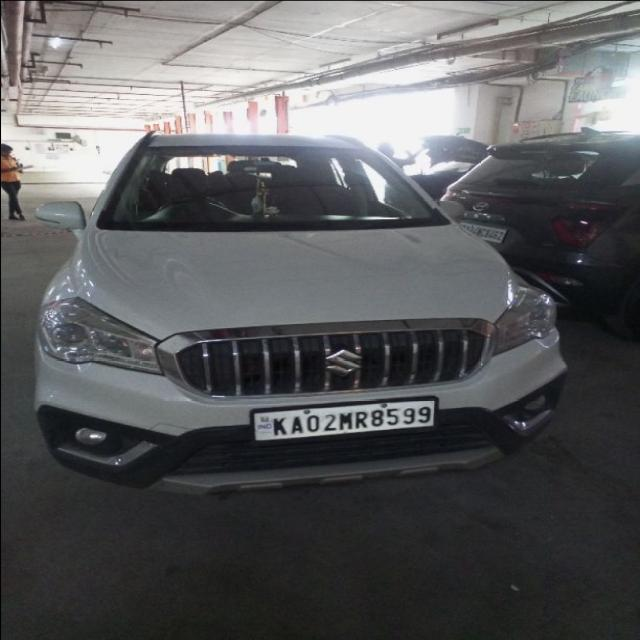license_plate: (248, 394, 438, 442), (457, 220, 507, 244)
